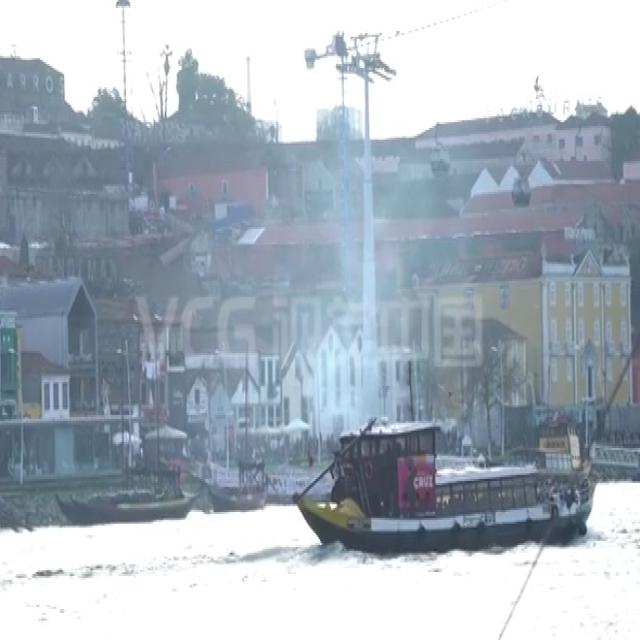passenger ship: (298, 411, 594, 549)
